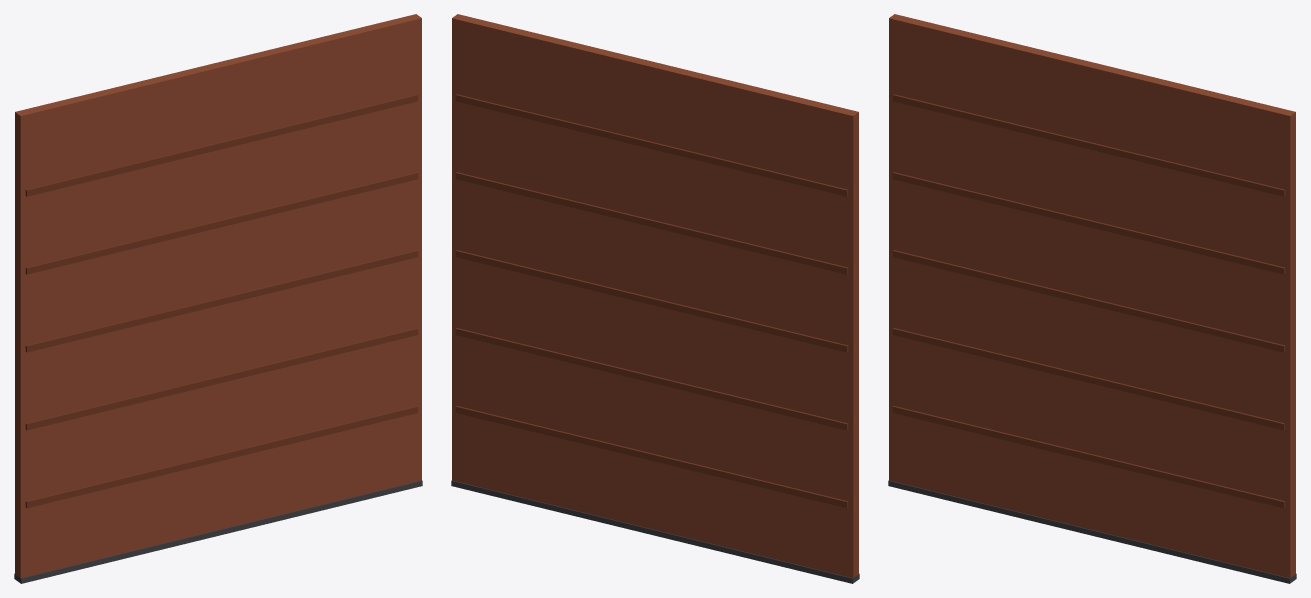
The model's file is Warehouse_LoadingDoor.glb.
3 renders of one model, left to right at view 1: azimuth 30°, elevation 25°; view 2: azimuth 150°, elevation 25°; view 3: azimuth 330°, elevation 25°, orthographic.
Parts seen in each view (by area): view 1: Warehouse_LoadingDoor; view 2: Warehouse_LoadingDoor; view 3: Warehouse_LoadingDoor.
Part boxes in pixels (x1,y1,x2,y2): Warehouse_LoadingDoor: [14, 14, 422, 583]; Warehouse_LoadingDoor: [451, 14, 859, 583]; Warehouse_LoadingDoor: [888, 14, 1296, 583].
Size of what is drawn, in the model's own units: 8 by 8.9 by 0.28.
